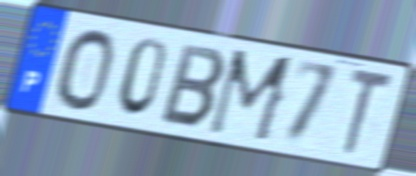0: (112, 36, 169, 121)
7: (286, 57, 339, 150)
B: (157, 40, 230, 131)
M: (203, 46, 299, 147)
O: (53, 26, 116, 113)
T: (340, 65, 397, 159)
